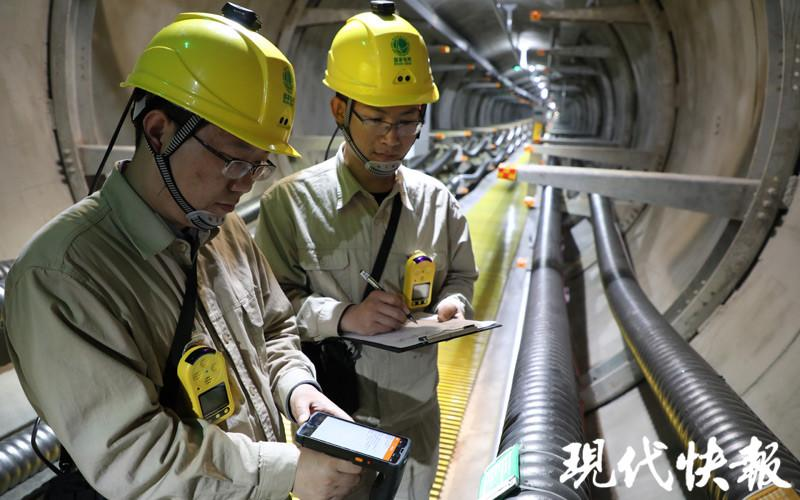helmet: (122, 13, 299, 157), (326, 10, 443, 109)
